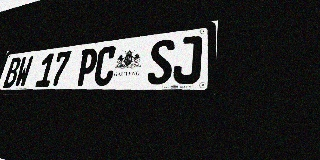1: (35, 53, 57, 87)
7: (49, 51, 71, 87)
B: (3, 57, 22, 88)
C: (92, 45, 118, 86)
J: (172, 35, 202, 84)
P: (75, 48, 99, 86)
S: (146, 38, 175, 85)
W: (14, 56, 34, 88)
